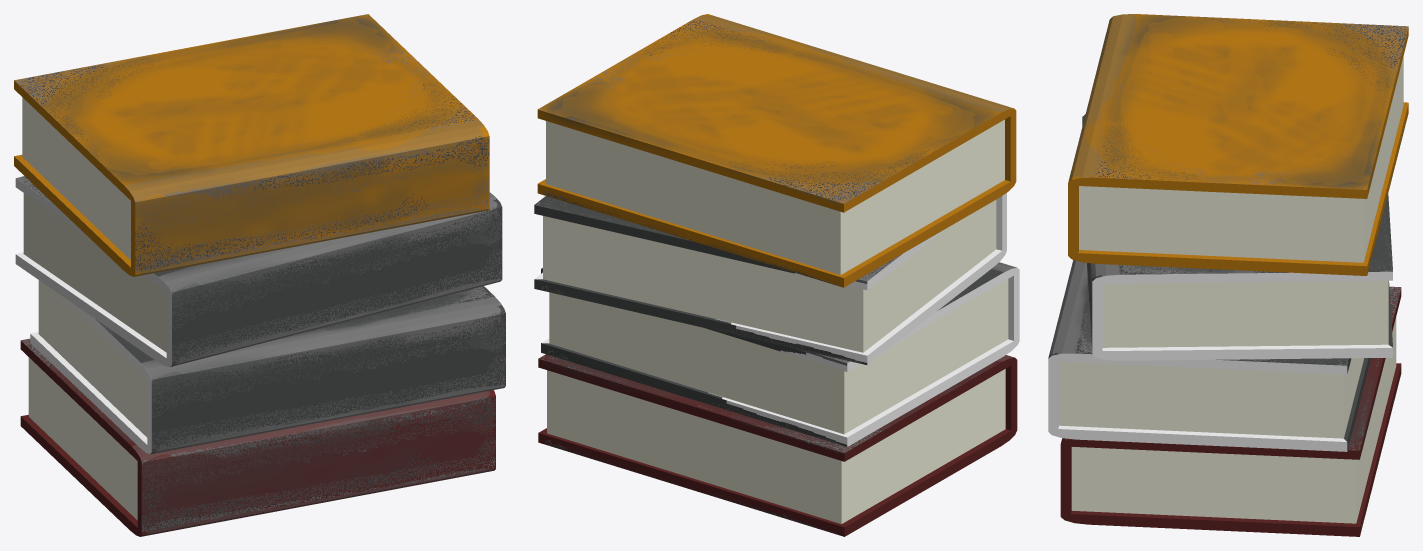
Rendered from Stack-5.fbx.
3 renders of one model, left to right at view 1: azimuth 30°, elevation 25°; view 2: azimuth 150°, elevation 25°; view 3: azimuth 270°, elevation 25°, orthographic. The views are drawn at different scales.
Parts seen in each view (by area): view 1: Cube.010; view 2: Cube.010; view 3: Cube.010.
Boxes of the visible parts, bbox=[...] form: Cube.010: bbox=[14, 14, 505, 536]; Cube.010: bbox=[534, 14, 1019, 536]; Cube.010: bbox=[1048, 14, 1408, 536].
Size of the model in its own units: 18.22 by 16.27 by 15.39.
Materials: 8 (4 with a texture image).
